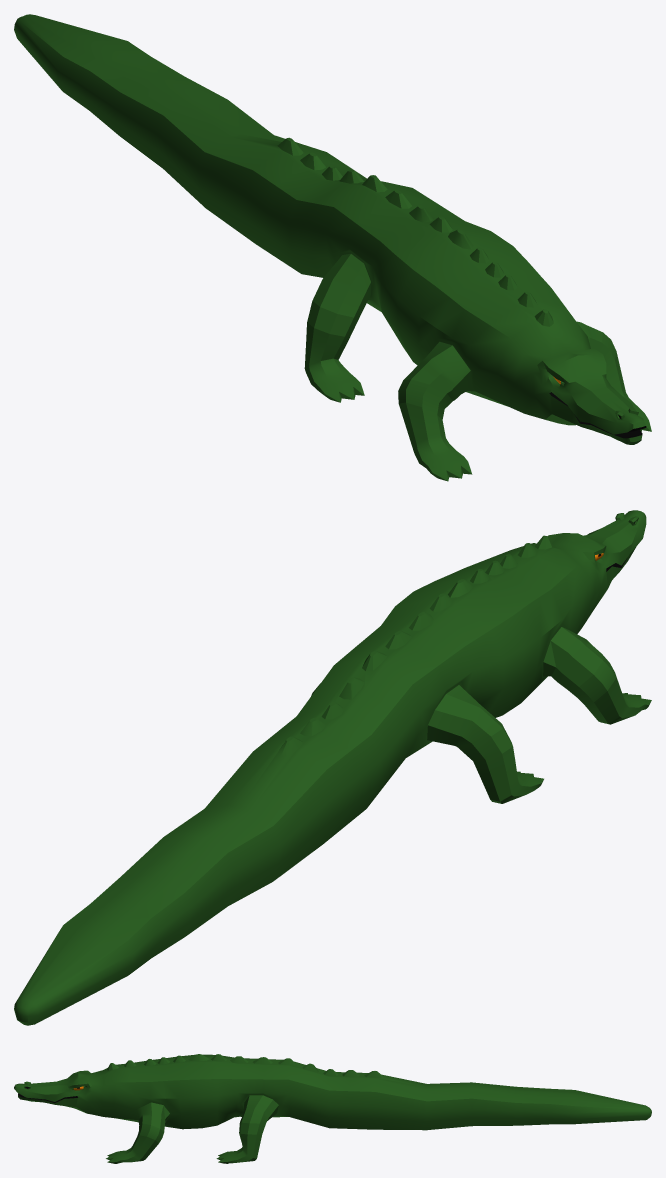
Rendered from StuffedCrocOnBookCase.fbx.
The picture shows the model from 3 angles, top to bottom: view 1: azimuth 30°, elevation 25°; view 2: azimuth 150°, elevation 25°; view 3: azimuth 270°, elevation 25°; orthographic projection. The views are drawn at different scales.
Parts seen in each view (by area): view 1: Cube.001; view 2: Cube.001; view 3: Cube.001.
Boxes of the visible parts, x1,y1,x2,y2 form: Cube.001: (14, 14, 651, 481); Cube.001: (14, 510, 651, 1025); Cube.001: (14, 1054, 651, 1163).
Size of the model in its own units: 28.16 by 19.97 by 139.
